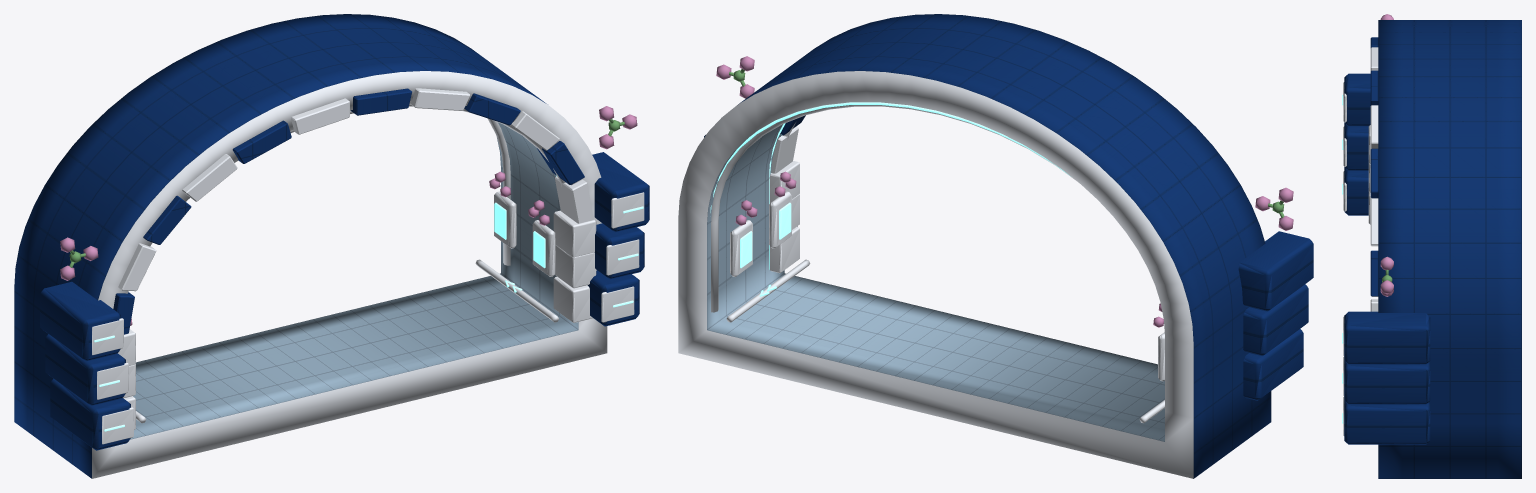
The model's file is portal_entry_lod1.glb.
3 views of the same model, side by side, from view 1: azimuth 30°, elevation 25°; view 2: azimuth 150°, elevation 25°; view 3: azimuth 270°, elevation 25° (orthographic). The views are drawn at different scales.
Parts seen in each view (by area): view 1: TunnelGeometry.001; view 2: TunnelGeometry.001; view 3: TunnelGeometry.001.
Part boxes in pixels (<box>): TunnelGeometry.001: <box>14,14,649,478</box>; TunnelGeometry.001: <box>678,14,1313,478</box>; TunnelGeometry.001: <box>1342,14,1521,478</box>.
Bounding box in the file's own units: 17.08 × 9.52 × 5.01.
6 materials, 2 textured.
